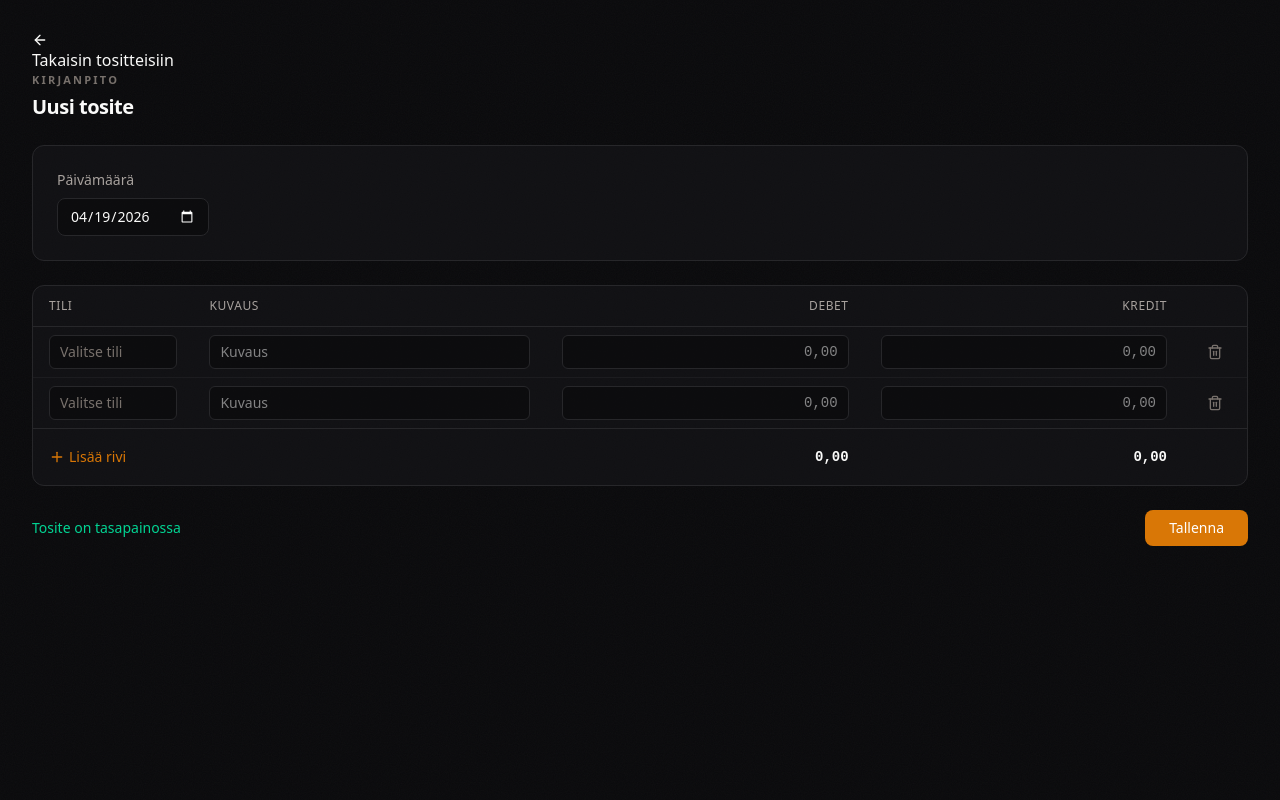
Test: NewDocumentForm › adds a new row
Click the button "Lisää rivi" at x=88, y=456, box [49,440,126,472]
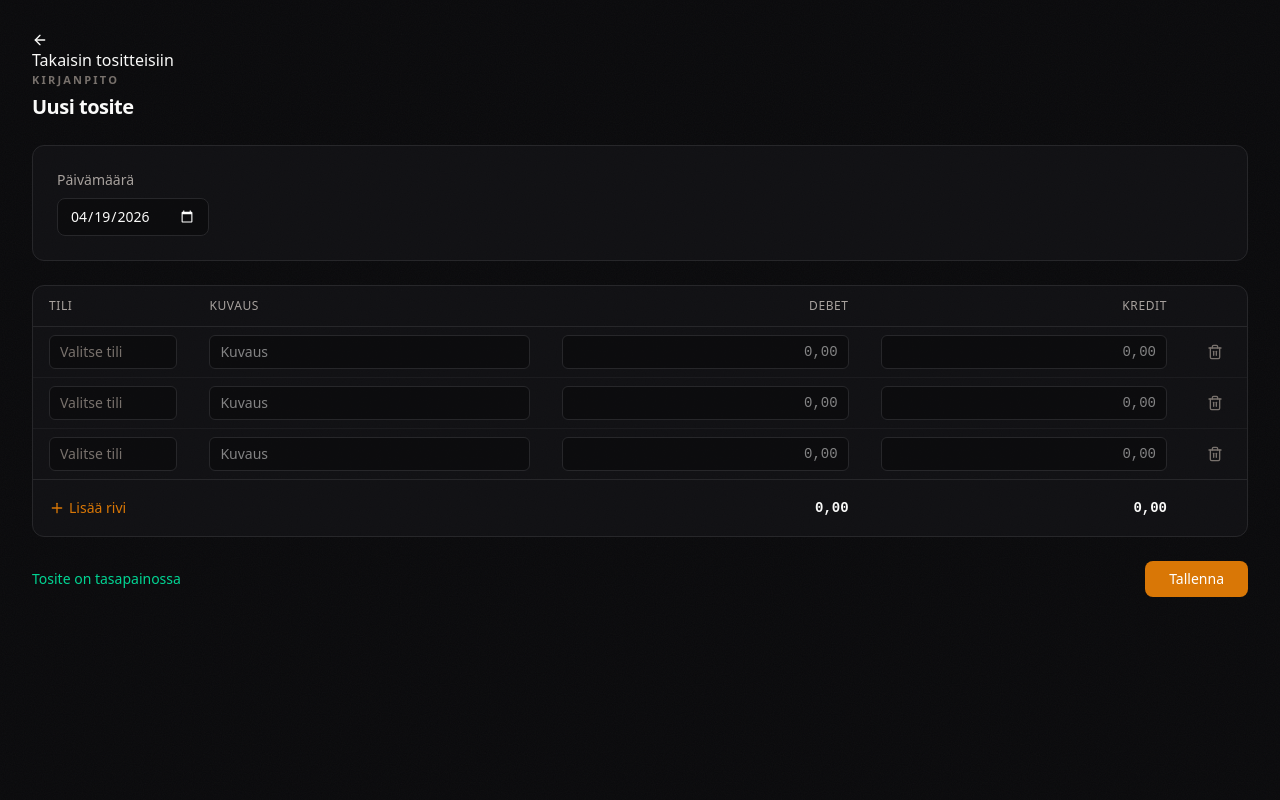
expect the text "Valitse tili" is shown 3 times: met, box [60,342,122,362]; [60,392,122,412]; [60,444,122,464]
